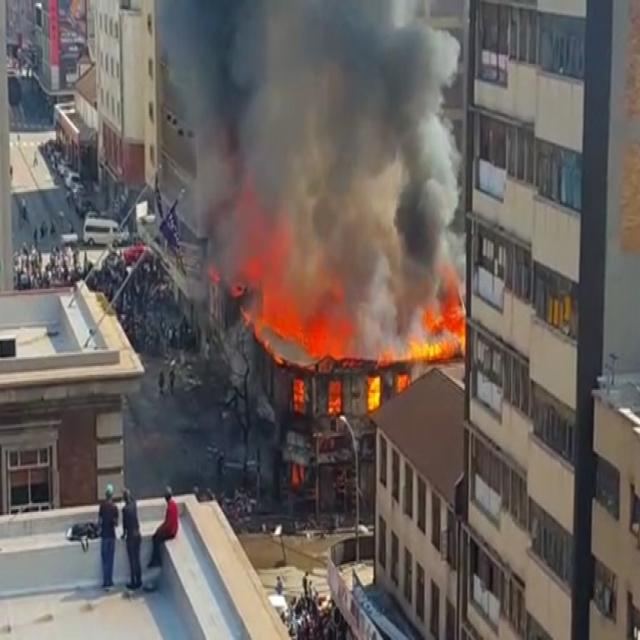smoke: (247, 6, 464, 261)
